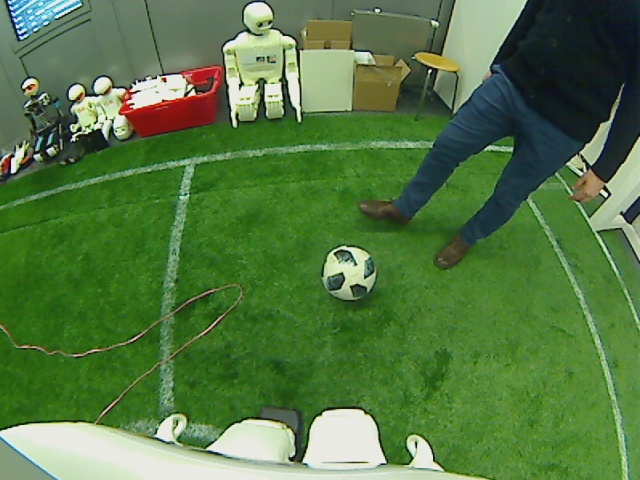ball: (321, 243, 379, 302)
